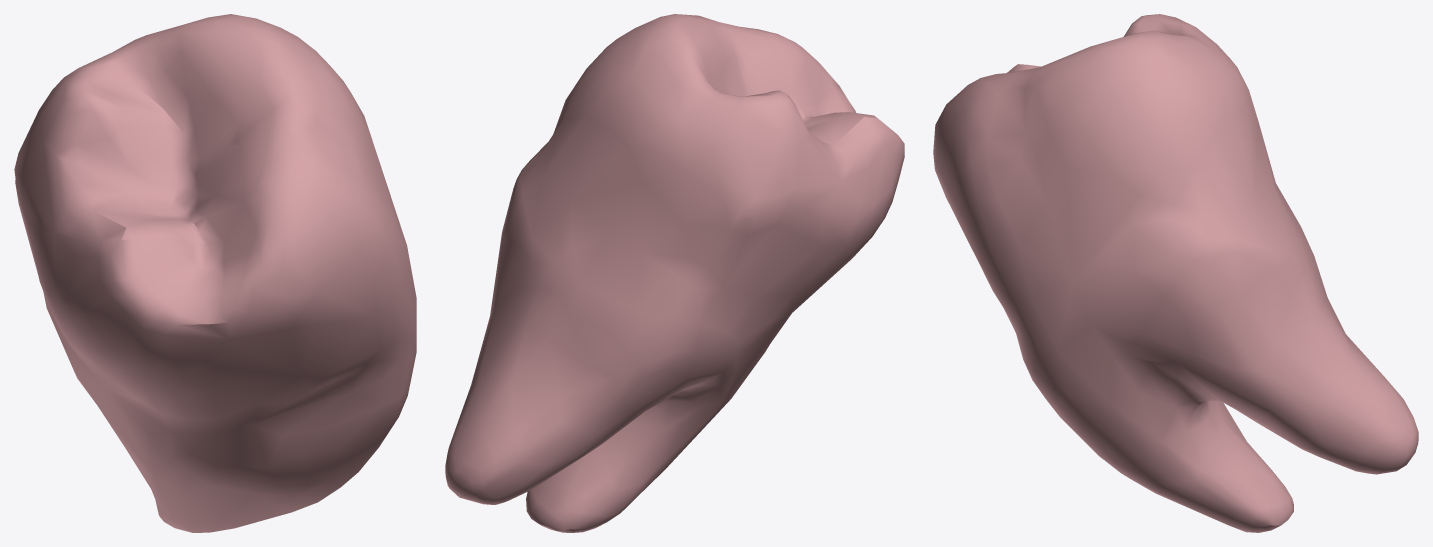
File: fma55703_mm821.glb
3 views of the same model, side by side, from view 1: azimuth 30°, elevation 25°; view 2: azimuth 150°, elevation 25°; view 3: azimuth 270°, elevation 25° (orthographic). The views are drawn at different scales.
Visible parts, largest first — view 1: FMA55703_MM821; view 2: FMA55703_MM821; view 3: FMA55703_MM821.
Boxes of the visible parts, x1=… form: FMA55703_MM821: x1=14, y1=14, x2=416, y2=532; FMA55703_MM821: x1=445, y1=14, x2=904, y2=532; FMA55703_MM821: x1=933, y1=14, x2=1418, y2=532.
Bounding box in the file's own units: 0.0112 × 0.0166 × 0.0156.
